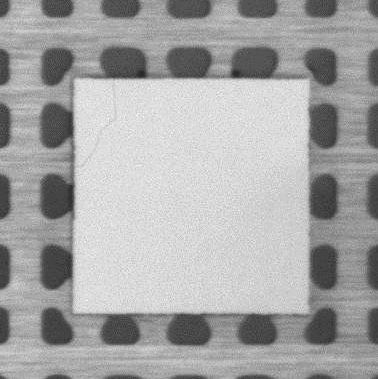DIE_CRACK: (75, 79, 119, 168)
